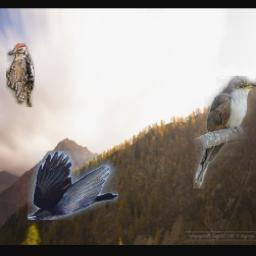Crow: (27, 152, 117, 221)
Cuckoo: (192, 76, 256, 189)
Woodpecker: (6, 44, 35, 108)
